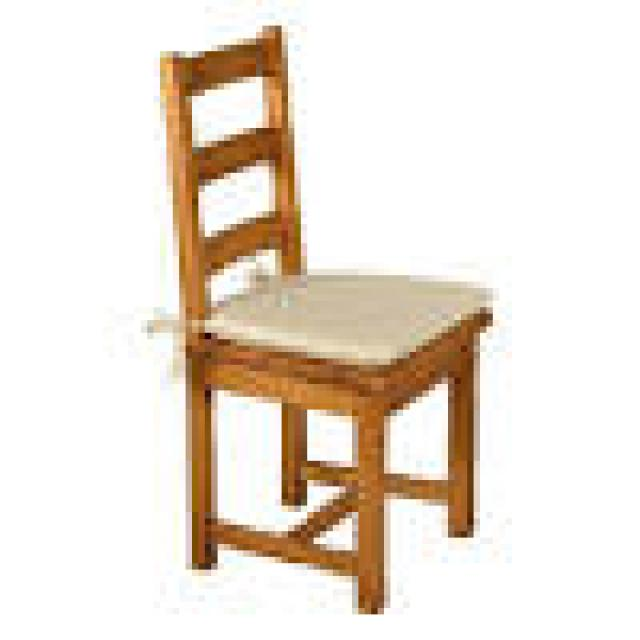bottle: (162, 19, 497, 614)
